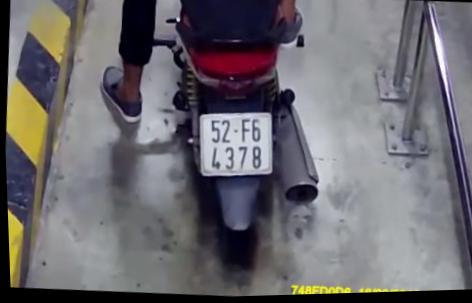LP: (191, 108, 277, 182)
